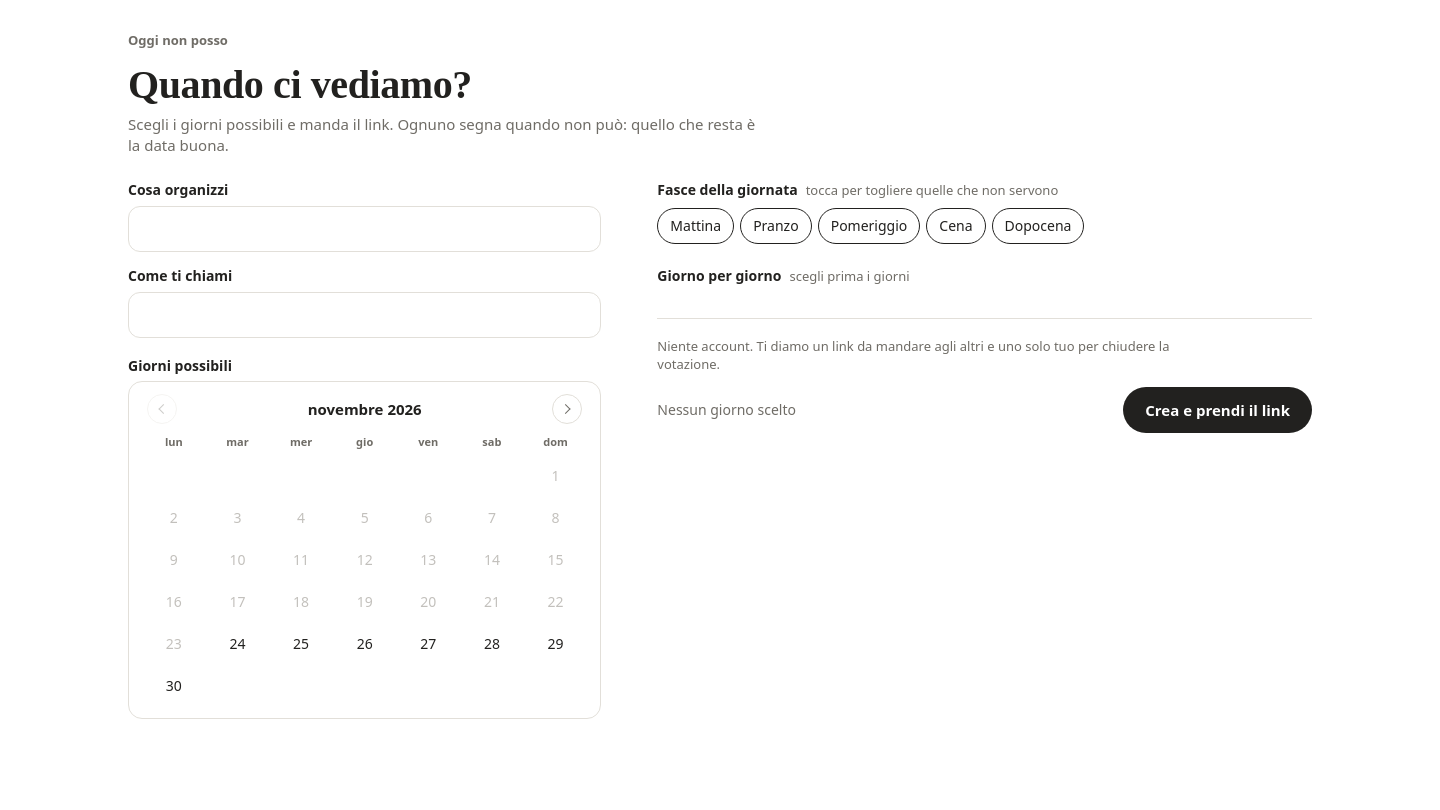
Test case: what can go wrong › says in Italian what the server answered: rate_limited
In the field labelled "Cosa organizzi": {"x": 365, "y": 229} [128,206,601,252], type "Rimpatriata di dicembre"
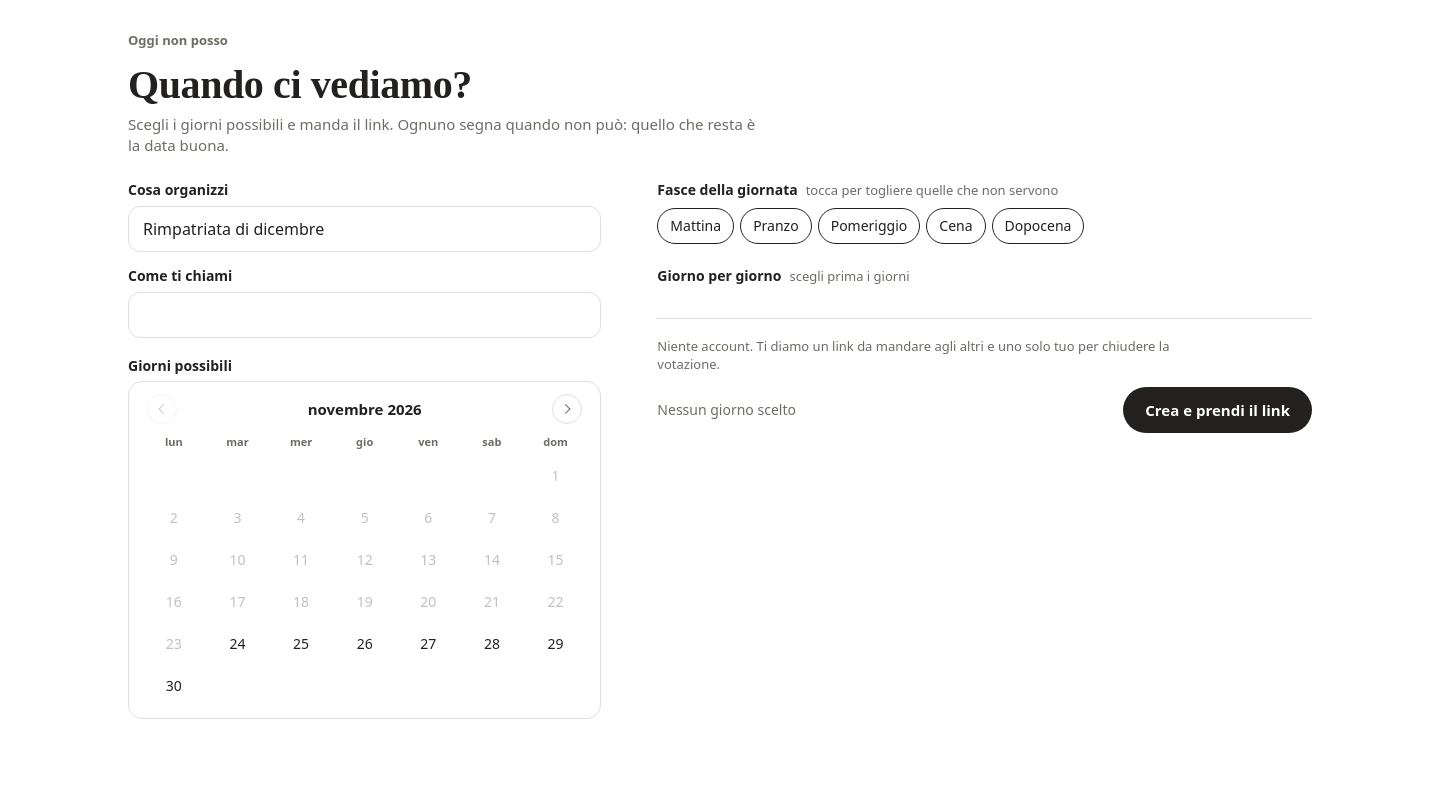
In the field labelled "Come ti chiami": {"x": 365, "y": 315} [128,292,601,338], type "Giulia"
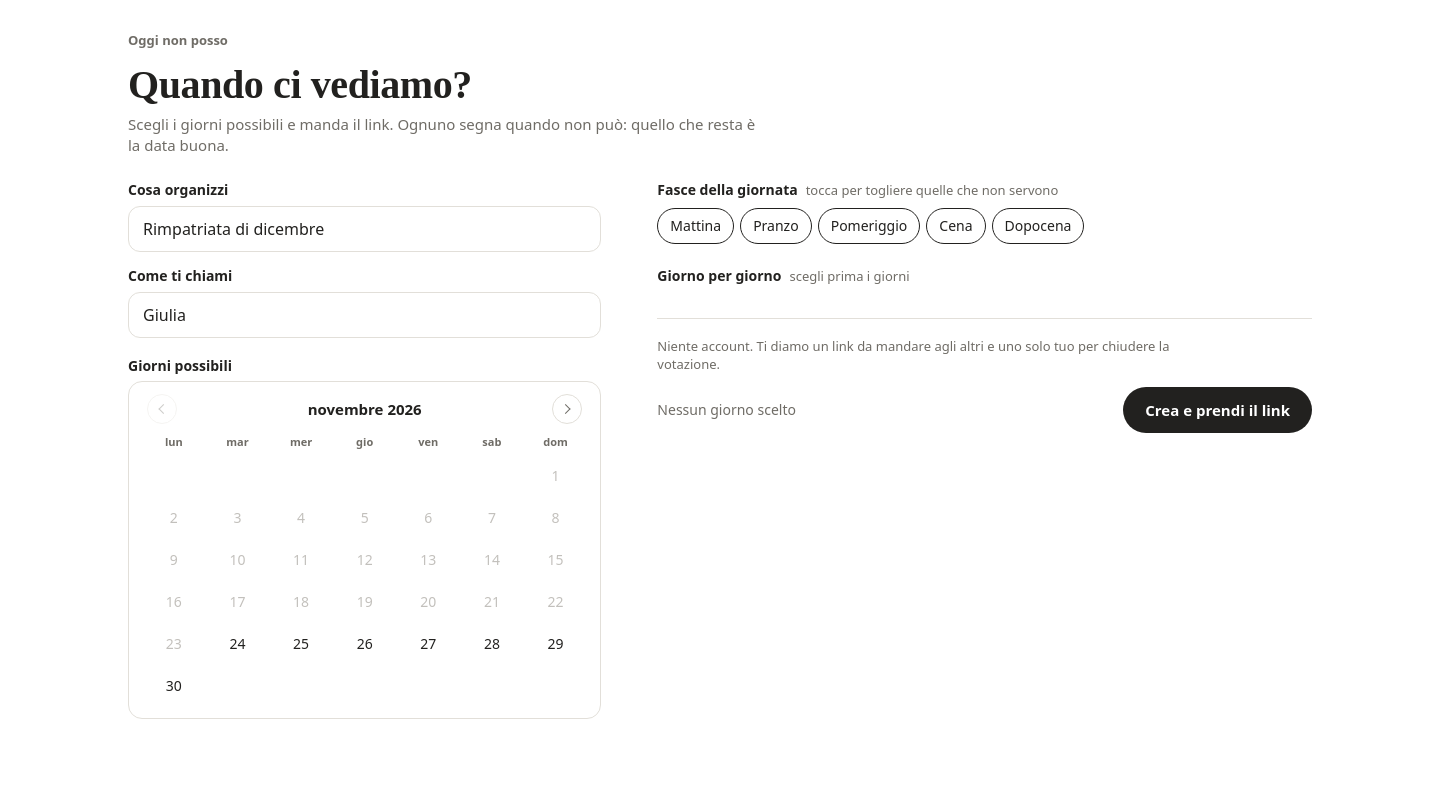
Click the button named "sabato 28 novembre 2026": {"x": 492, "y": 644} [472,624,512,664]
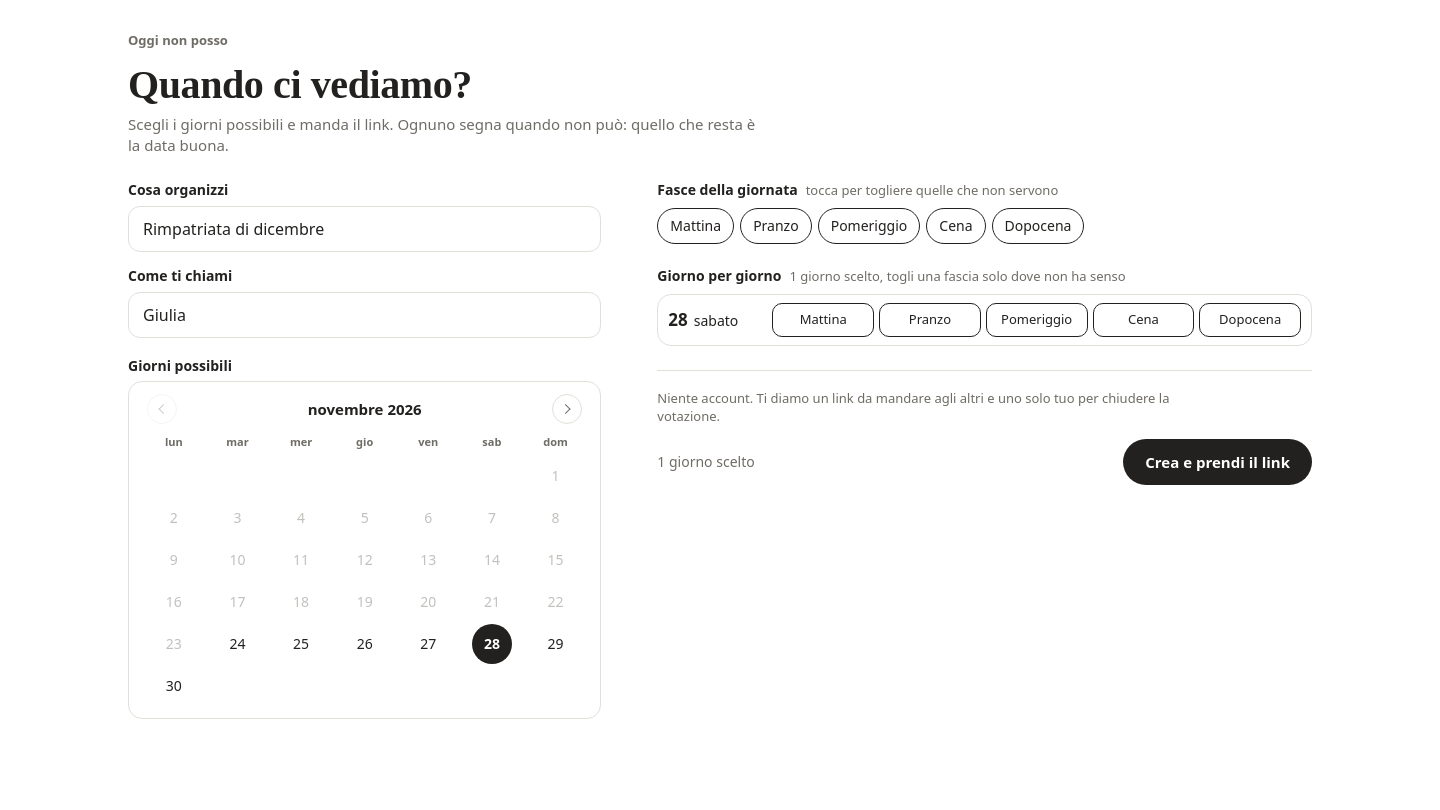
Click the button "Crea e prendi il link": {"x": 1218, "y": 462} [1123,439,1312,485]
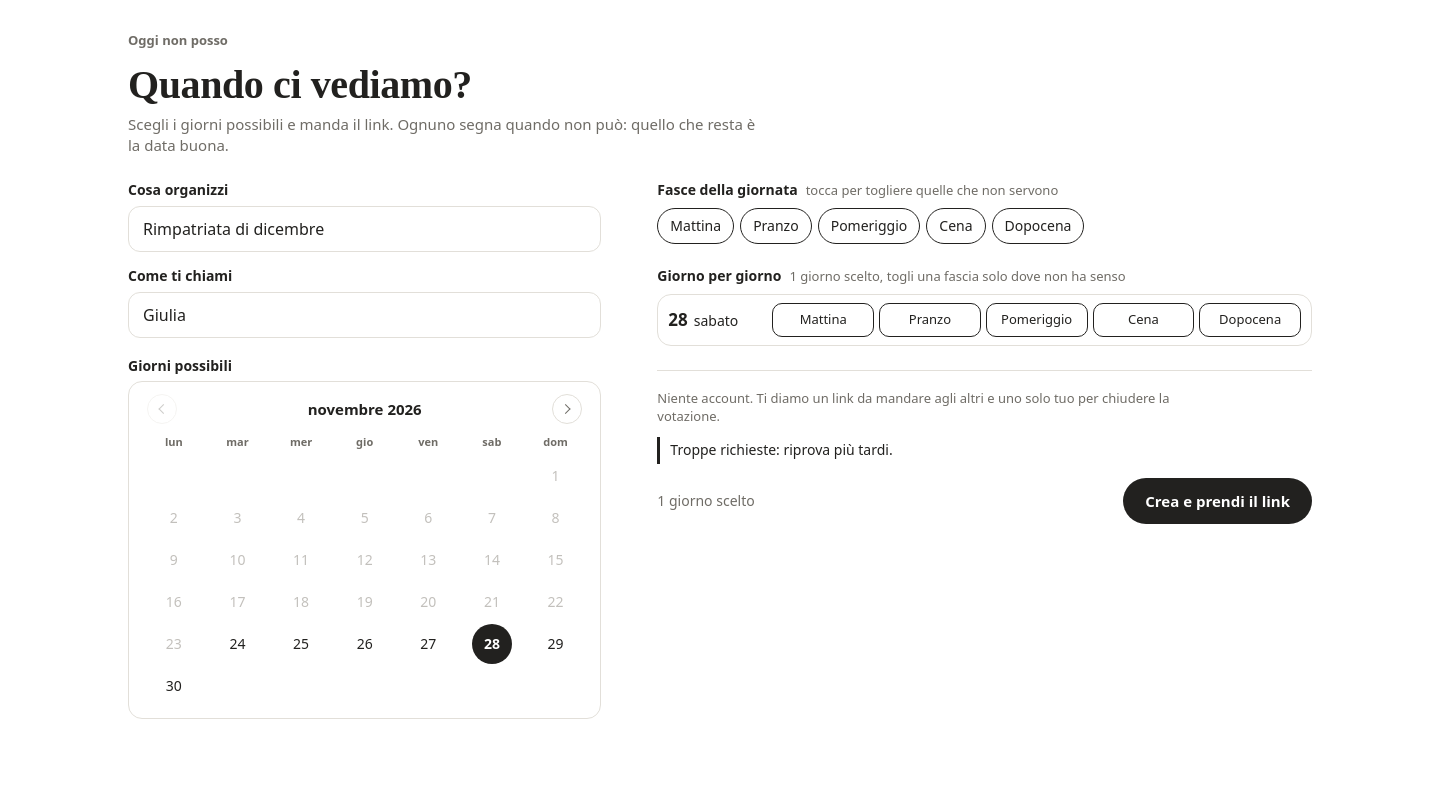
Expected: the button "Crea e prendi il link" is enabled, [1123,478,1312,524]
Result: the text "Troppe richieste: riprova più tardi." is shown at [657,437,1312,464]
